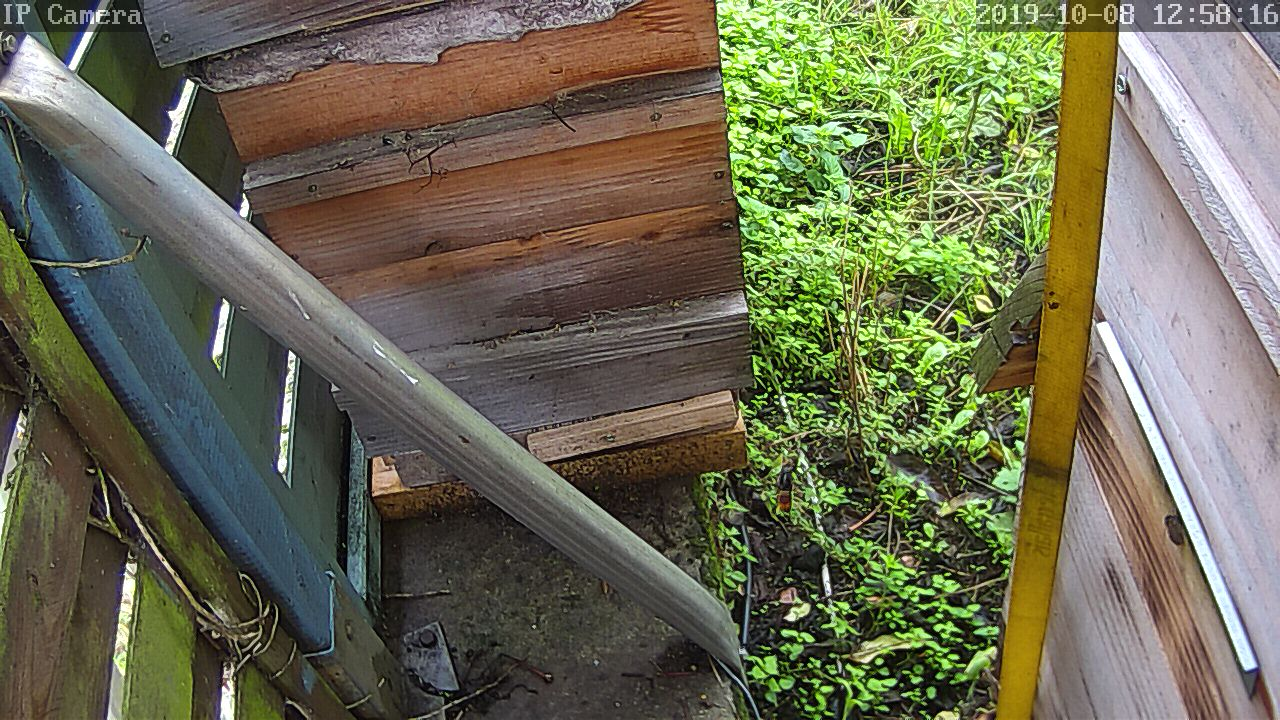bee: (1160, 513, 1188, 549)
hornet: (767, 453, 804, 516)
